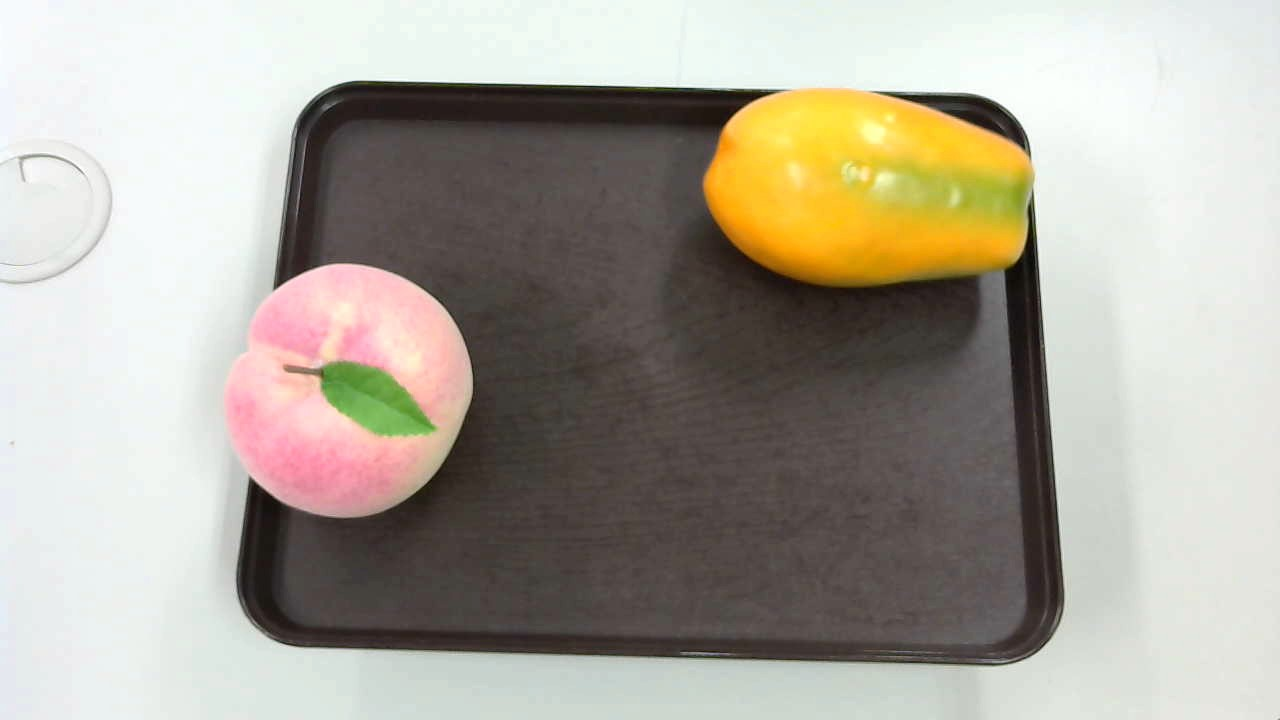papya: (700, 79, 1038, 283)
peach: (221, 265, 480, 521)
